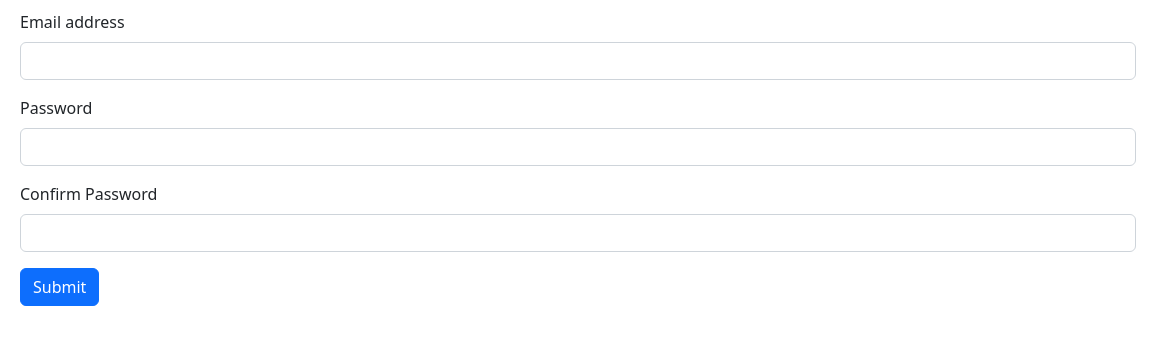
Scenario: error handling tests › should show password do not match error message
The width and height of the screenshot is (1157, 363).
Check: the text "The passwords do not match." is not shown
Type "test@email.com" into the field labelled "Email address". click: [578, 61]
box: [20,42,1136,80]
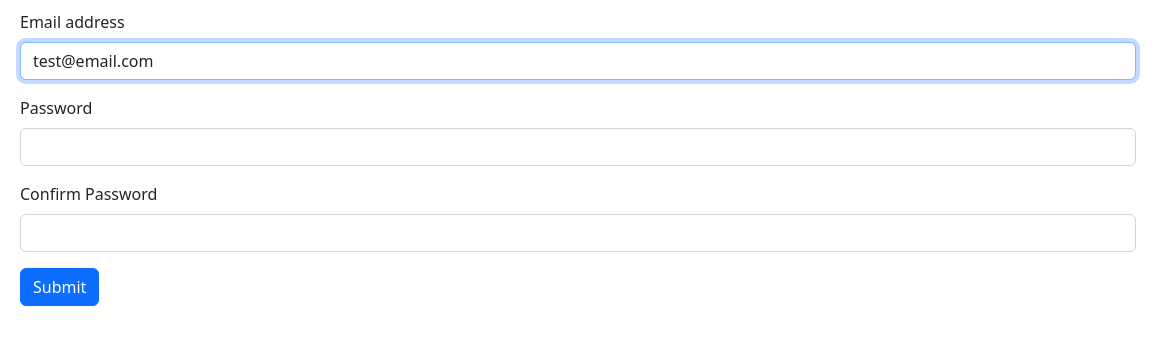
Type "abc123" into the password field labelled "Password". click: [578, 147]
box: [20,128,1136,166]
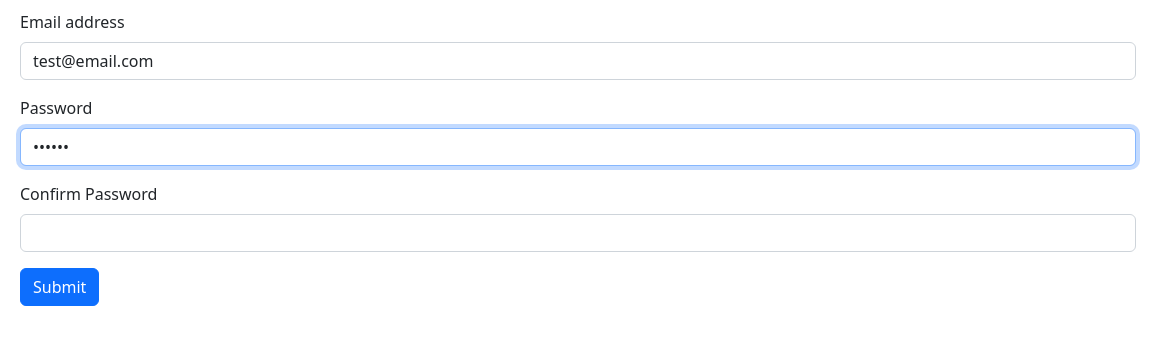
Type "abc456" into the password field labelled "Confirm Password". click: [578, 233]
box: [20,214,1136,252]
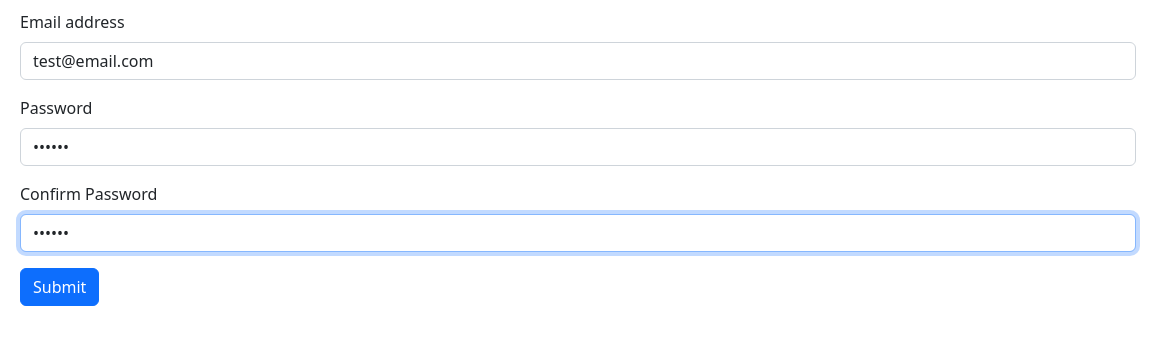
Click the button. click: [60, 287]
box: [20,268,99,306]
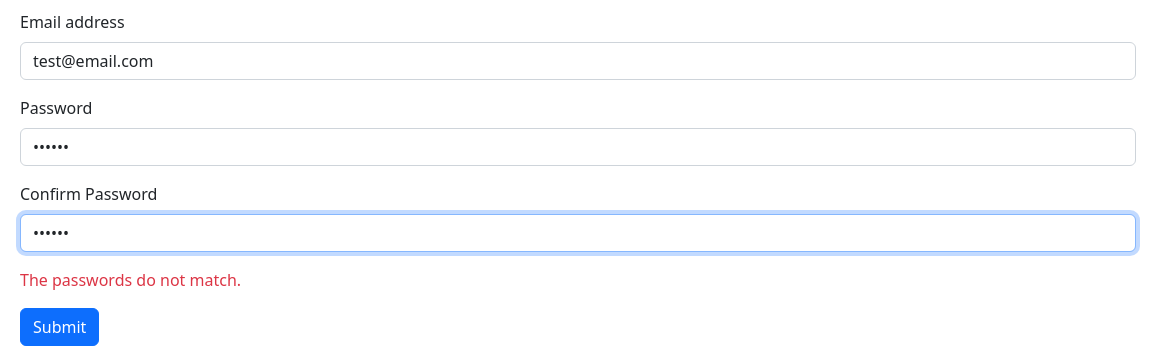
Check: the text "The passwords do not match." is shown, box [20,269,241,291]
